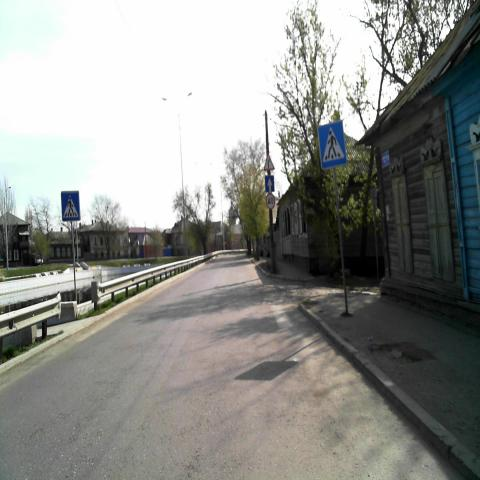5_5: (266, 174, 274, 192)
